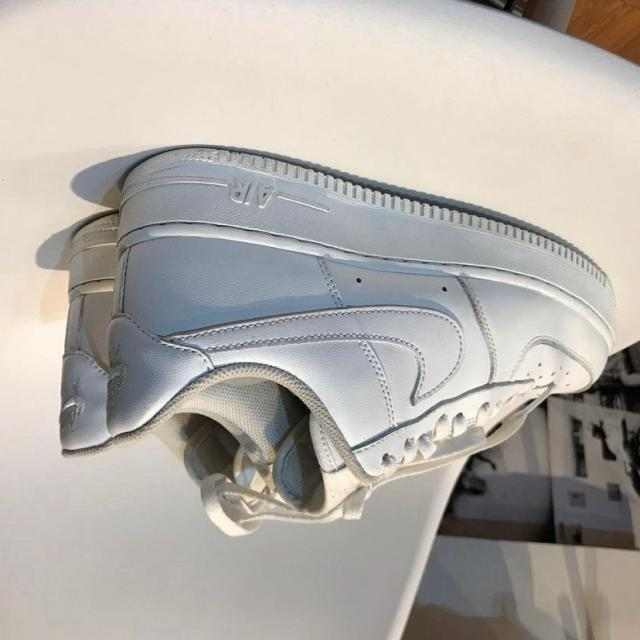nike original air force: (104, 146, 614, 516)
